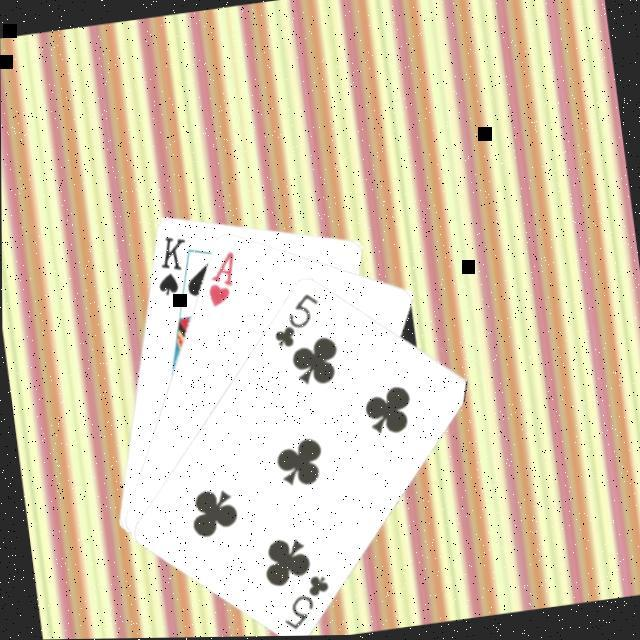5C: (275, 571, 337, 636), (265, 288, 326, 353)
AH: (198, 247, 243, 312)
KS: (148, 231, 194, 300)
